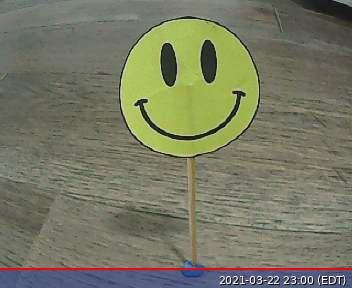Person: (118, 16, 260, 159)
